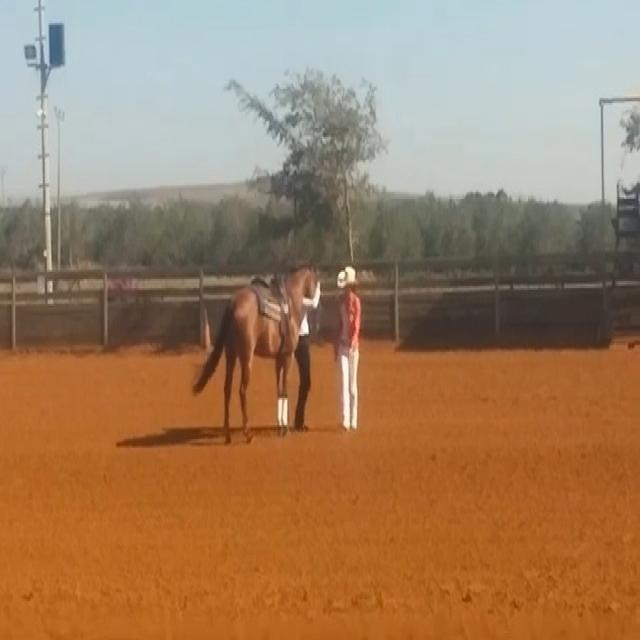horse: (190, 260, 322, 444)
